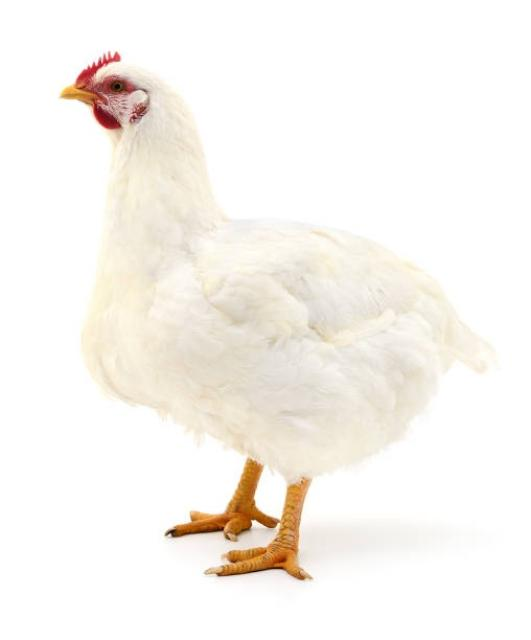Chicken: (58, 50, 500, 583)
